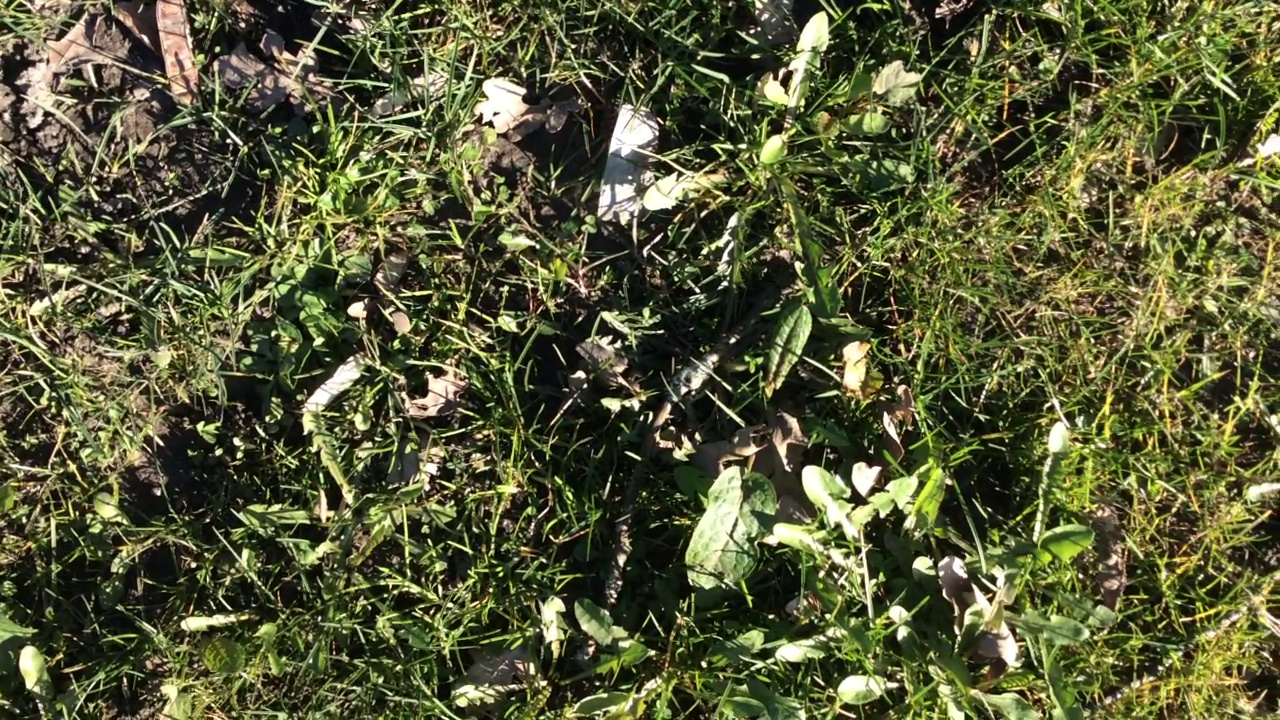rumex: (682, 465, 776, 605), (765, 305, 813, 401)
